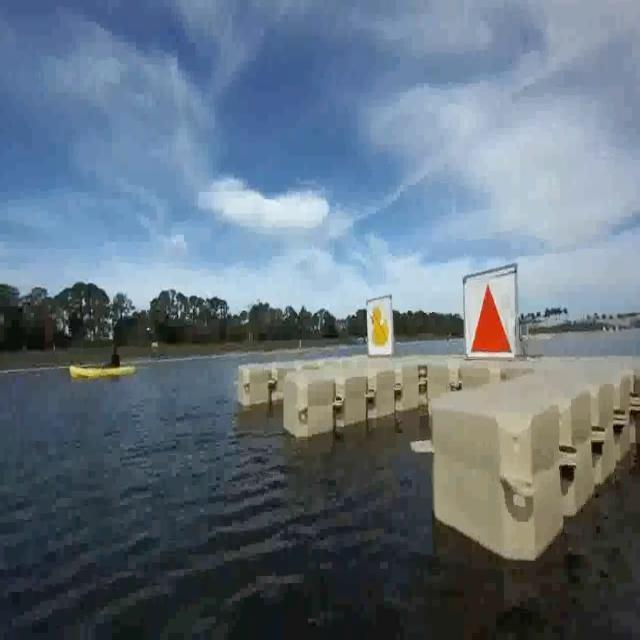red-dot: (463, 279, 518, 360)
yellow-duck: (363, 299, 394, 356)
